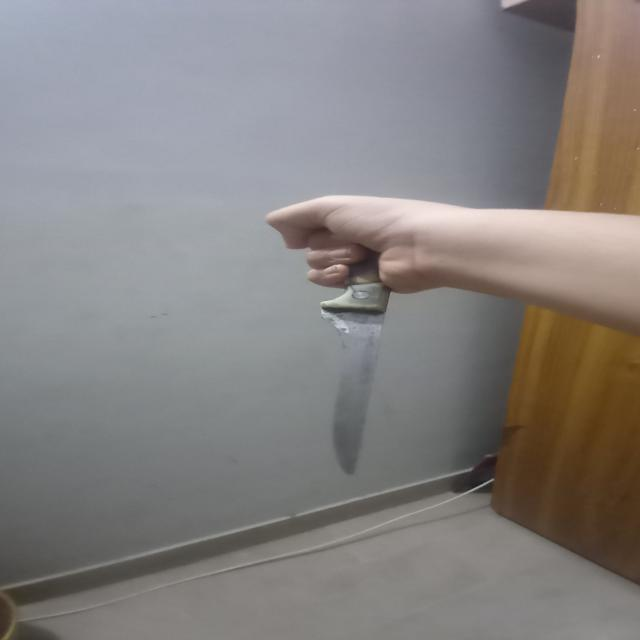Knife: (300, 219, 404, 485)
